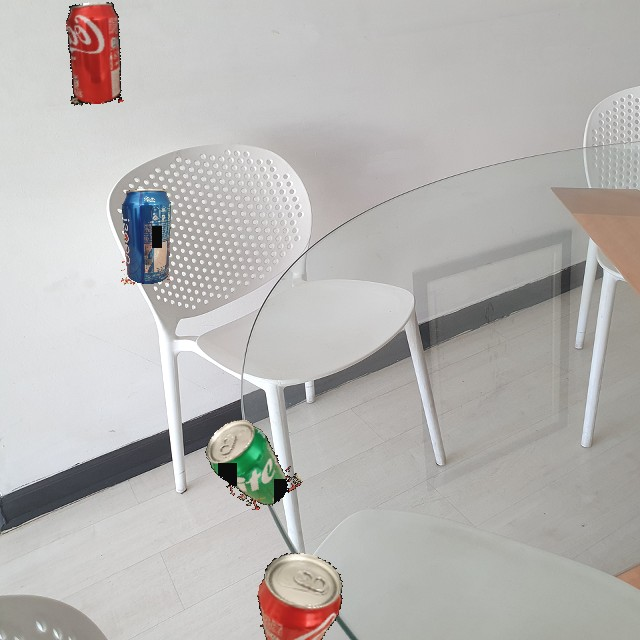coca cola: (43, 0, 147, 116), (249, 552, 350, 640)
pepsi: (121, 189, 171, 285)
sprite: (197, 420, 303, 510)
